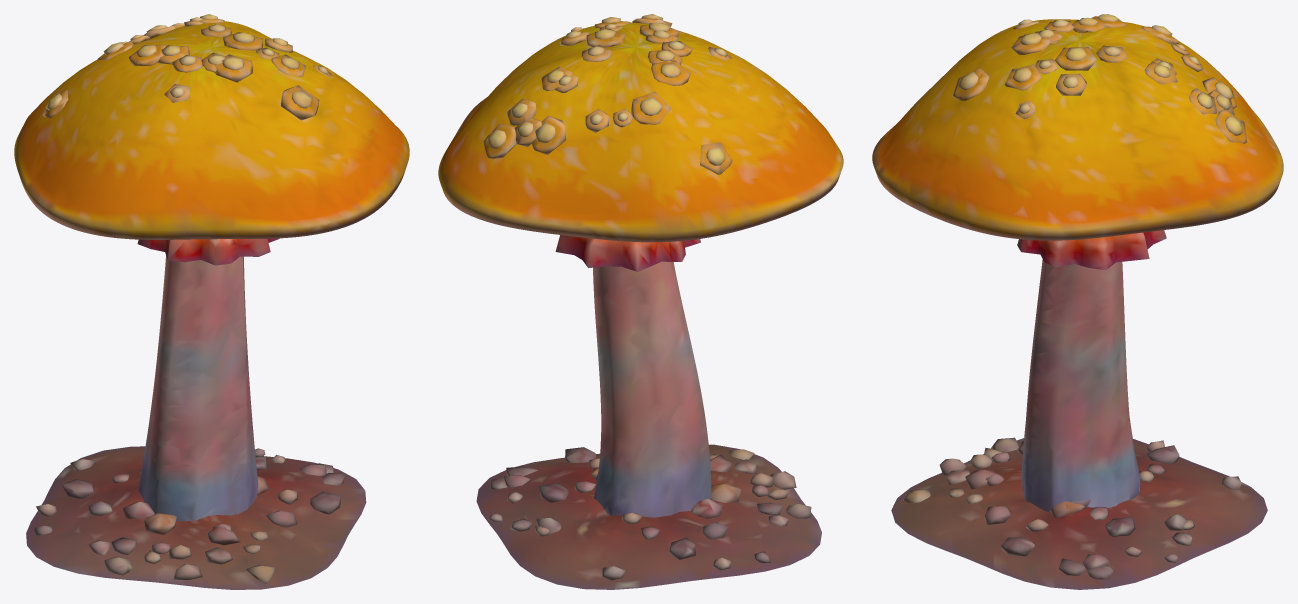
File: mantar_buyuk.glb
3 views of the same model, side by side, from view 1: azimuth 30°, elevation 25°; view 2: azimuth 150°, elevation 25°; view 3: azimuth 270°, elevation 25° (orthographic).
Visible parts, largest first — view 1: mantar_buyuk_LOD0; view 2: mantar_buyuk_LOD0; view 3: mantar_buyuk_LOD0.
Boxes of the visible parts, box(x1,y1,x2,y2) form: mantar_buyuk_LOD0: box(14, 14, 409, 589); mantar_buyuk_LOD0: box(438, 14, 843, 589); mantar_buyuk_LOD0: box(872, 14, 1283, 589).
Size of what is drawn, in the model's own units: 11.58 by 15.26 by 11.68.
